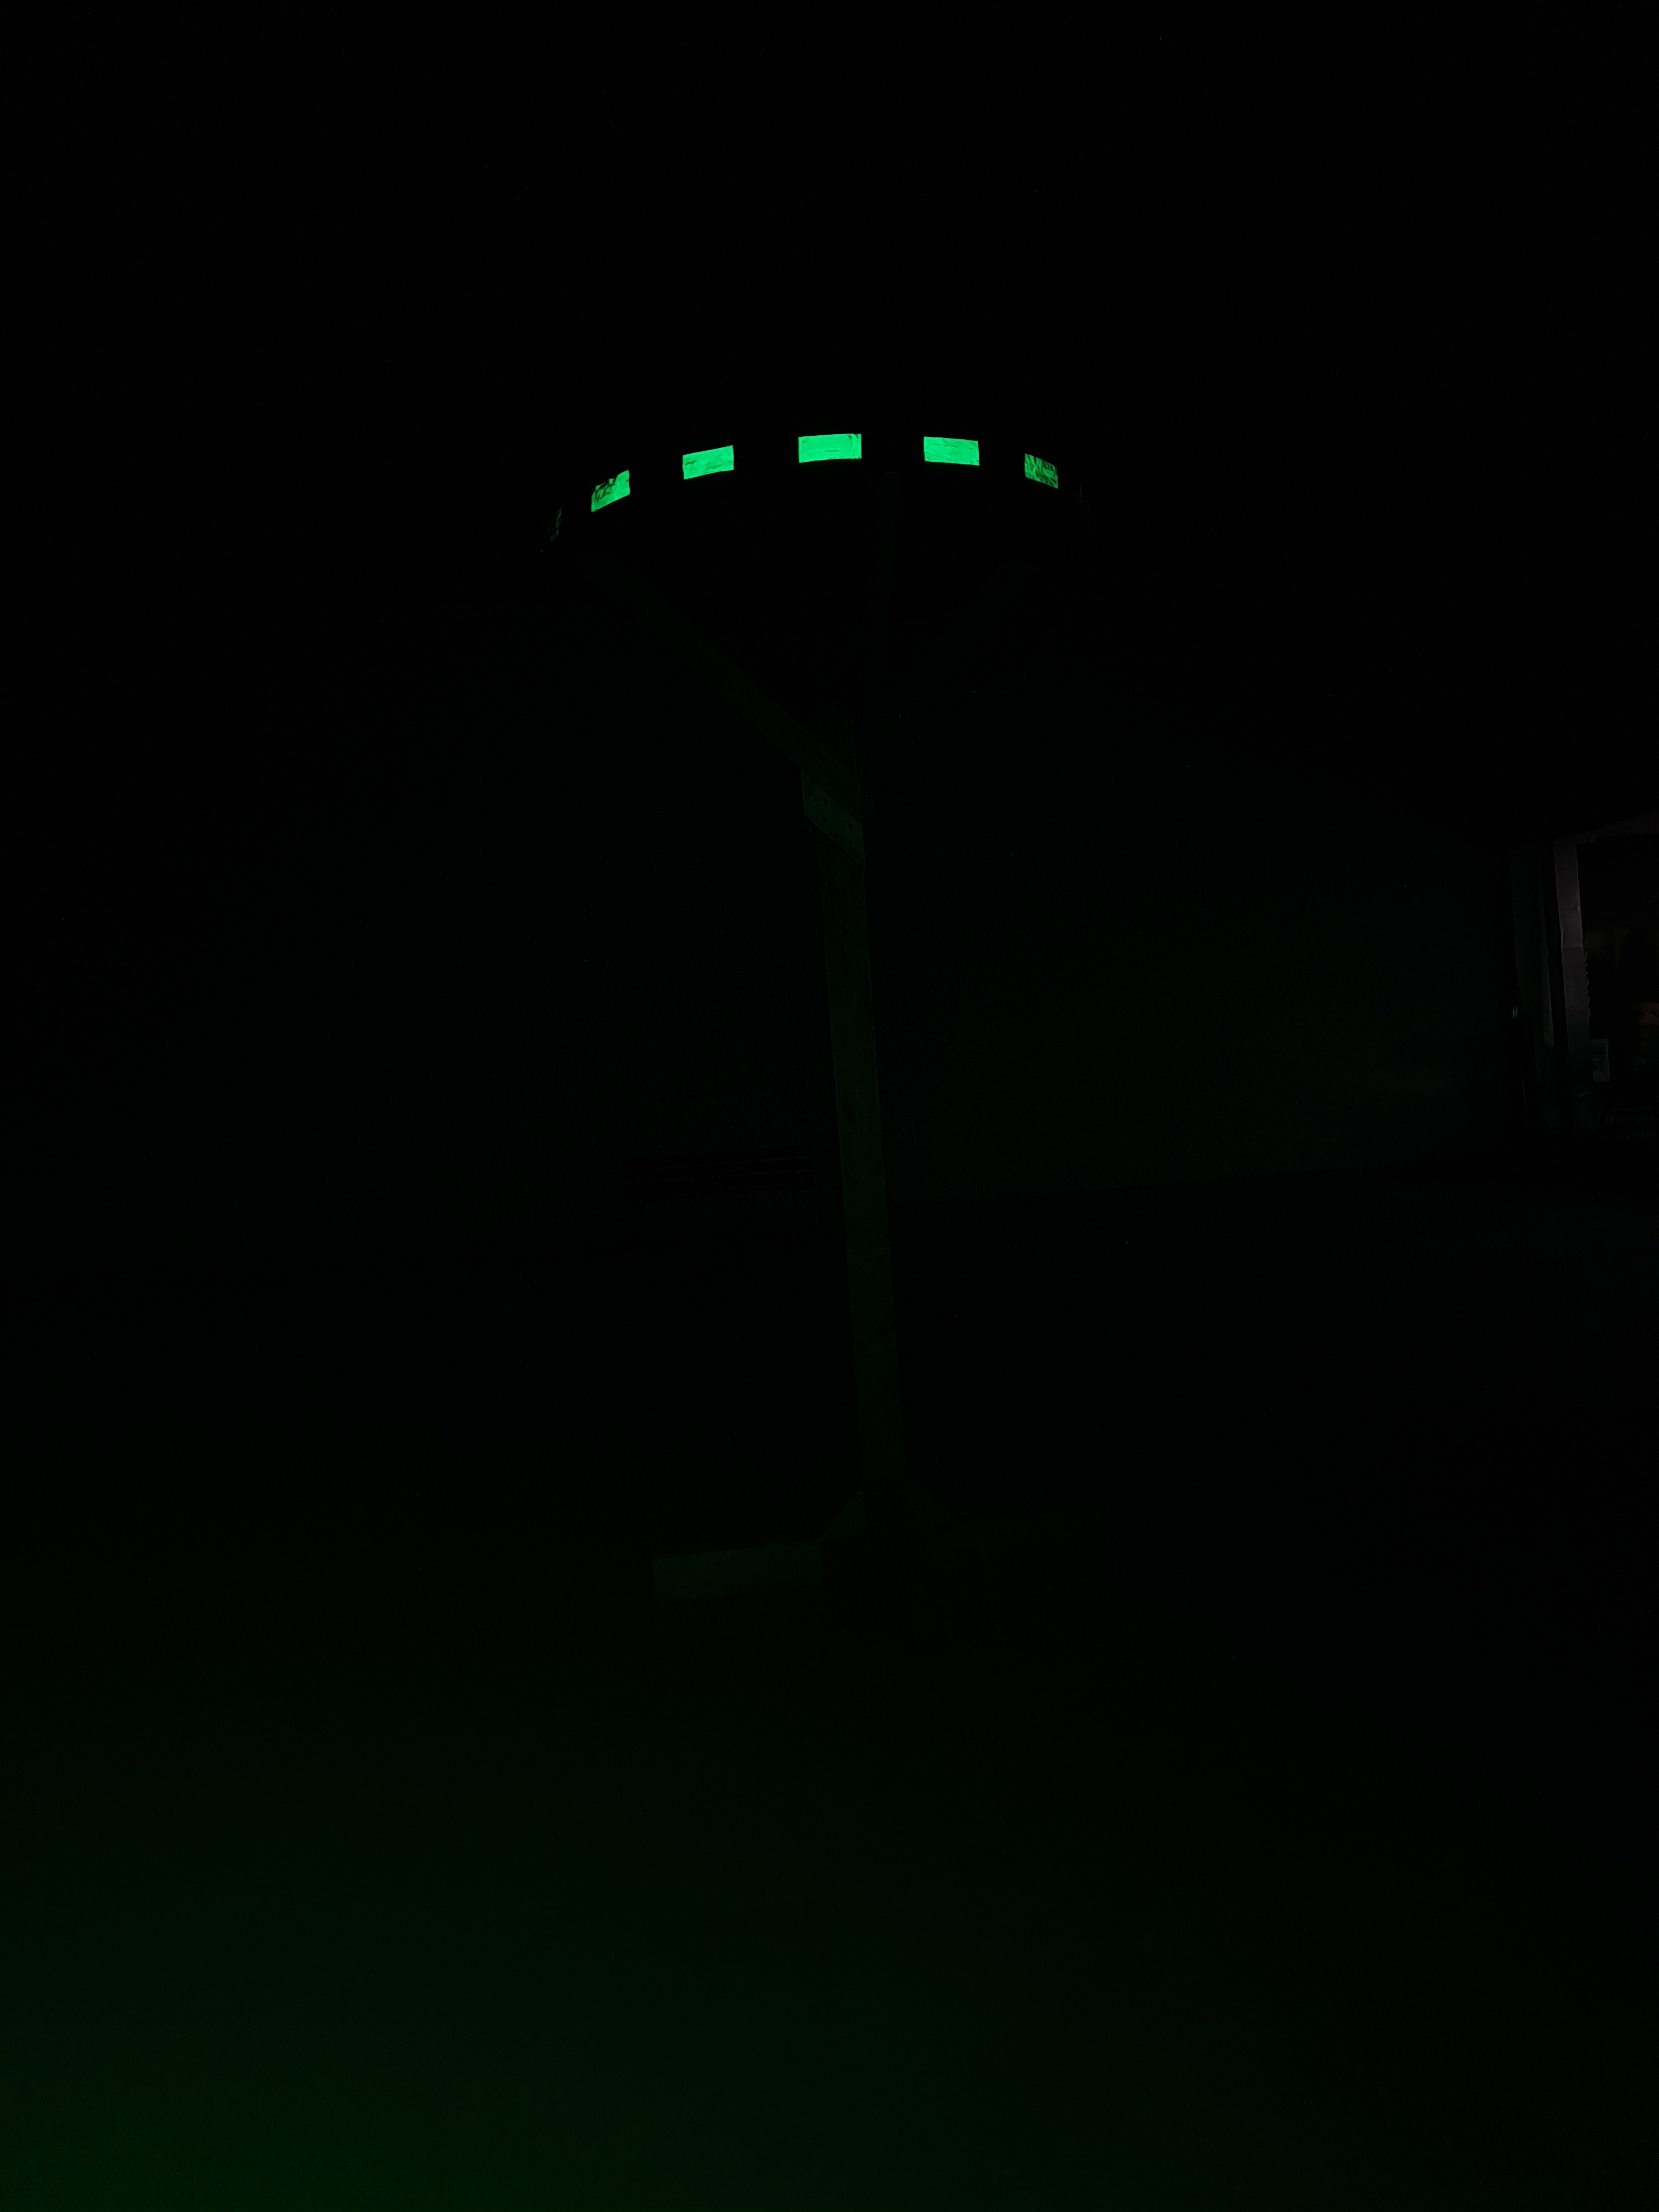hoop: (592, 427, 1061, 512)
